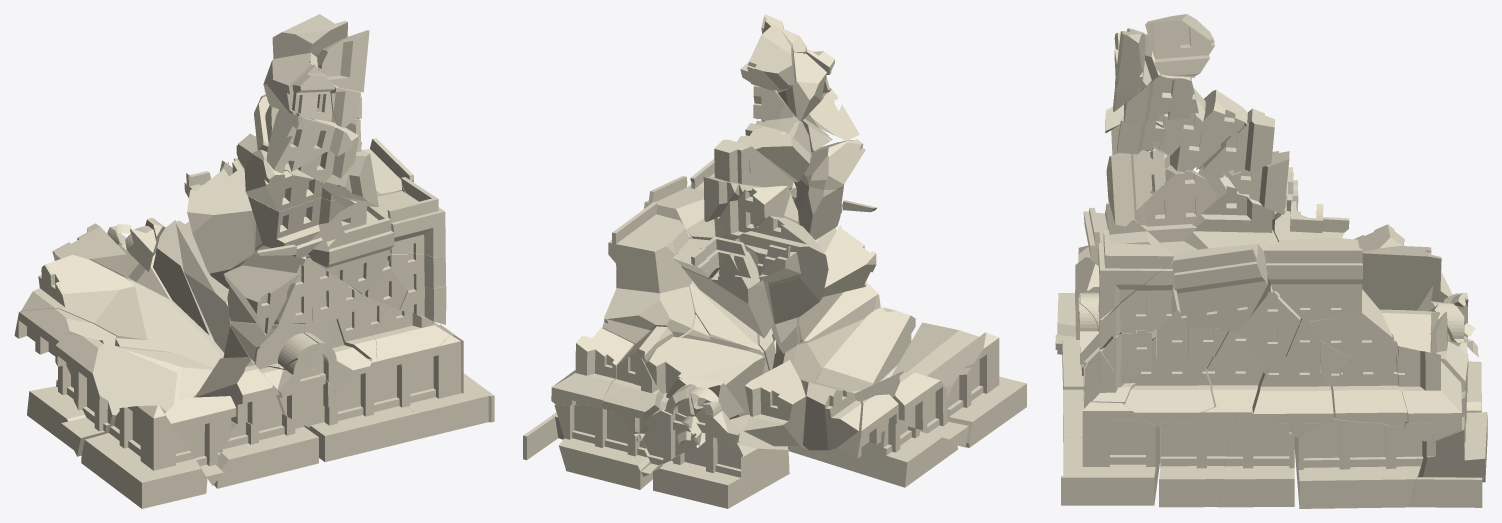
The model's file is Heavy_Commercial2-2-broken.fbx.
The picture shows the model from 3 angles, left to right: view 1: azimuth 30°, elevation 25°; view 2: azimuth 150°, elevation 25°; view 3: azimuth 270°, elevation 25°; orthographic projection. The views are drawn at different scales.
Parts seen in each view (by area): view 1: Heavy_Commercal_2_cell.132, Heavy_Commercal_2_cell.163, Heavy_Commercal_2_cell.075, Heavy_Commercal_2_cell.004, Heavy_Commercal_2_cell.119, Heavy_Commercal_2_cell.030, Heavy_Commercal_2_cell.026, Heavy_Commercal_2_cell.171, Heavy_Commercal_2_cell.144, Heavy_Commercal_2_cell.113, Heavy_Commercal_2_cell.096, Heavy_Commercal_2_cell.027 (+35 smaller); view 2: Heavy_Commercal_2_cell.144, Heavy_Commercal_2_cell.132, Heavy_Commercal_2_cell.102, Heavy_Commercal_2_cell.029, Heavy_Commercal_2_cell.004, Heavy_Commercal_2_cell.171, Heavy_Commercal_2_cell.173, Heavy_Commercal_2_cell.094, Heavy_Commercal_2_cell.077, Heavy_Commercal_2_cell.015, Heavy_Commercal_2_cell.163, Heavy_Commercal_2_cell.081 (+33 smaller); view 3: Heavy_Commercal_2_cell.193, Heavy_Commercal_2_cell.072, Heavy_Commercal_2_cell.029, Heavy_Commercal_2_cell.078, Heavy_Commercal_2_cell.170, Heavy_Commercal_2_cell.120, Heavy_Commercal_2_cell.131, Heavy_Commercal_2_cell.081, Heavy_Commercal_2_cell.015, Heavy_Commercal_2_cell.197, Heavy_Commercal_2_cell.145, Heavy_Commercal_2_cell.105 (+39 smaller).
Part boxes in pixels (x1,y1,x2,y2): Heavy_Commercal_2_cell.132: (81,405,207,508); Heavy_Commercal_2_cell.163: (55,334,177,456); Heavy_Commercal_2_cell.075: (21,254,147,339); Heavy_Commercal_2_cell.004: (187,159,255,288); Heavy_Commercal_2_cell.119: (406,335,488,439); Heavy_Commercal_2_cell.030: (214,413,318,488); Heavy_Commercal_2_cell.026: (308,200,394,293); Heavy_Commercal_2_cell.171: (27,346,213,455); Heavy_Commercal_2_cell.144: (115,278,224,367); Heavy_Commercal_2_cell.113: (367,177,445,257); Heavy_Commercal_2_cell.096: (304,379,401,461); Heavy_Commercal_2_cell.027: (165,396,236,485); Heavy_Commercal_2_cell.144: (653,414,789,508); Heavy_Commercal_2_cell.132: (927,332,1026,447); Heavy_Commercal_2_cell.102: (554,405,659,489); Heavy_Commercal_2_cell.029: (608,202,692,293); Heavy_Commercal_2_cell.004: (738,216,828,324); Heavy_Commercal_2_cell.171: (787,419,957,487); Heavy_Commercal_2_cell.173: (815,307,915,391); Heavy_Commercal_2_cell.094: (645,337,765,419); Heavy_Commercal_2_cell.077: (677,235,773,338); Heavy_Commercal_2_cell.015: (743,360,805,446); Heavy_Commercal_2_cell.163: (854,371,968,447); Heavy_Commercal_2_cell.081: (551,328,633,406); Heavy_Commercal_2_cell.193: (1294,417,1423,508); Heavy_Commercal_2_cell.072: (1061,402,1159,505); Heavy_Commercal_2_cell.029: (1263,238,1362,321); Heavy_Commercal_2_cell.078: (1172,244,1267,332); Heavy_Commercal_2_cell.170: (1159,405,1237,507); Heavy_Commercal_2_cell.120: (1217,408,1294,507); Heavy_Commercal_2_cell.131: (1330,334,1407,426); Heavy_Commercal_2_cell.081: (1396,346,1461,441); Heavy_Commercal_2_cell.015: (1362,246,1452,310); Heavy_Commercal_2_cell.197: (1125,336,1215,427); Heavy_Commercal_2_cell.145: (1252,356,1333,437); Heavy_Commercal_2_cell.105: (1184,170,1278,251).
Bounding box in the file's own units: 4325 × 4559 × 4197.
